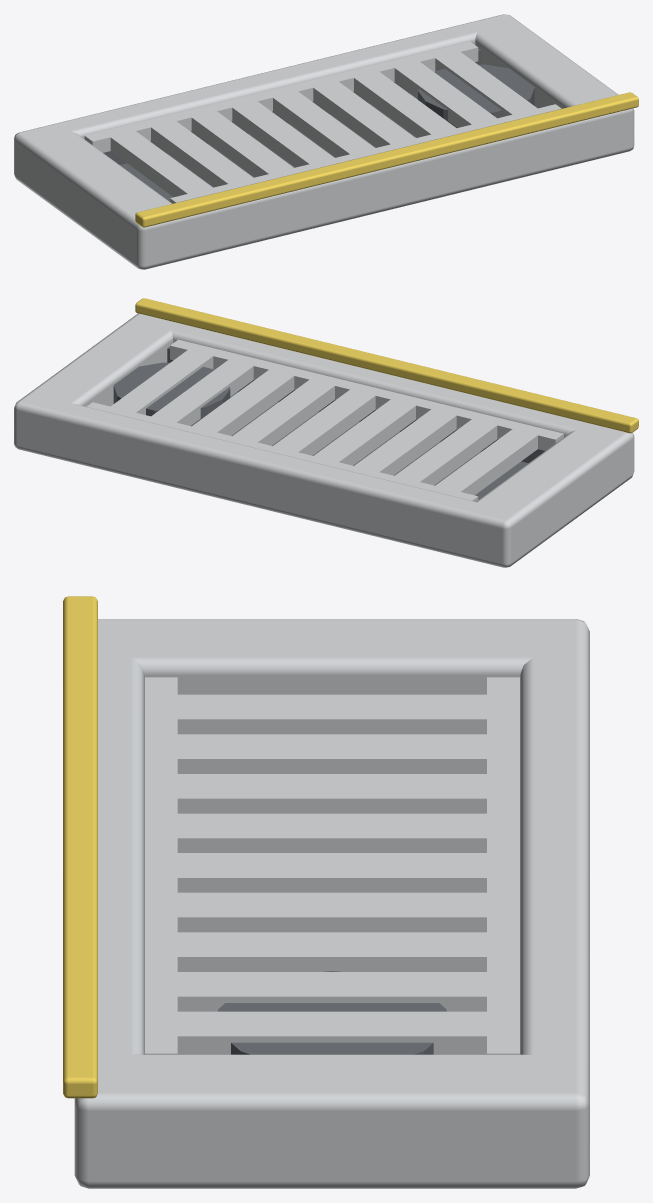
File: public-aquarium-and-marine-centre-floor-drain-grate-e5ea2e95__34187.glb
3 views of the same model, one above another, from view 1: azimuth 30°, elevation 25°; view 2: azimuth 150°, elevation 25°; view 3: azimuth 270°, elevation 25° (orthographic). The views are drawn at different scales.
Parts seen in each view (by area): view 1: floor-drain-grate; view 2: floor-drain-grate; view 3: floor-drain-grate.
Boxes of the visible parts, box(x1,y1,x2,y2) form: floor-drain-grate: box(14, 14, 638, 269); floor-drain-grate: box(14, 298, 638, 567); floor-drain-grate: box(63, 596, 589, 1188).
Size of the model in its own units: 0.98 by 0.108 by 0.45.
